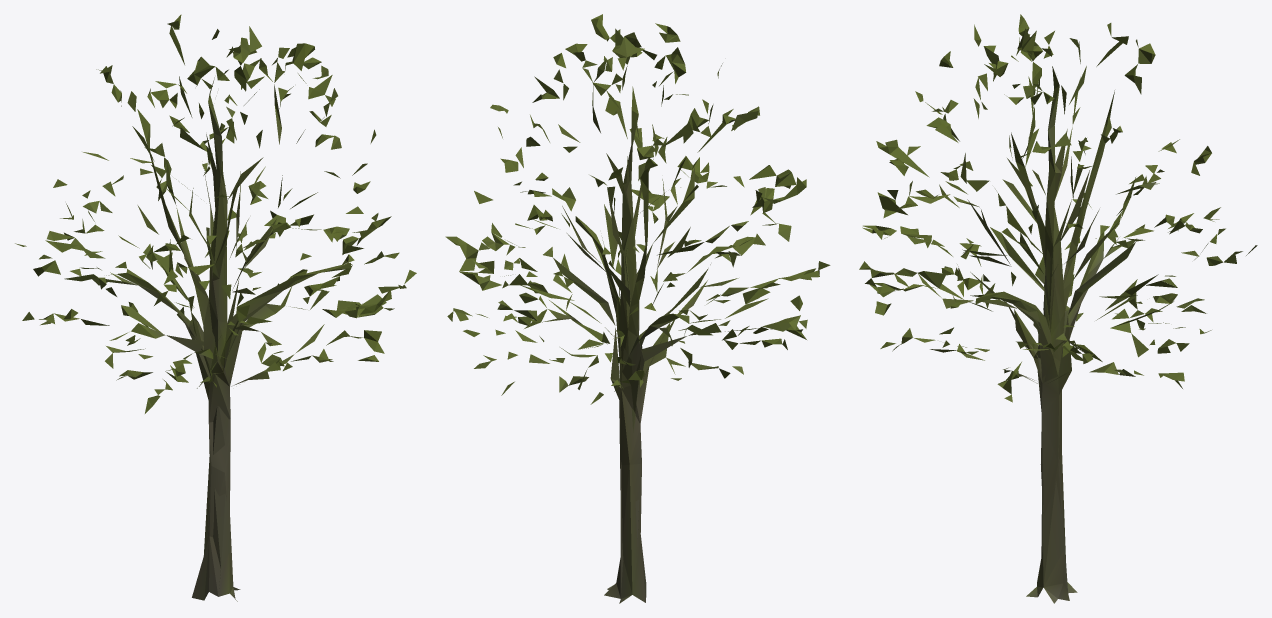
File: lib_tp_bachqua.vc2.glb
3 renders of one model, left to right at view 1: azimuth 30°, elevation 25°; view 2: azimuth 150°, elevation 25°; view 3: azimuth 270°, elevation 25°, orthographic. The views are drawn at different scales.
Parts seen in each view (by area): view 1: lib_tp_bachqua; view 2: lib_tp_bachqua; view 3: lib_tp_bachqua.
Boxes of the visible parts, bbox=[...] form: lib_tp_bachqua: bbox=[15, 14, 416, 601]; lib_tp_bachqua: bbox=[445, 14, 830, 603]; lib_tp_bachqua: bbox=[859, 14, 1257, 603].
Size of the model in its own units: 1.17 by 1.76 by 1.11.
